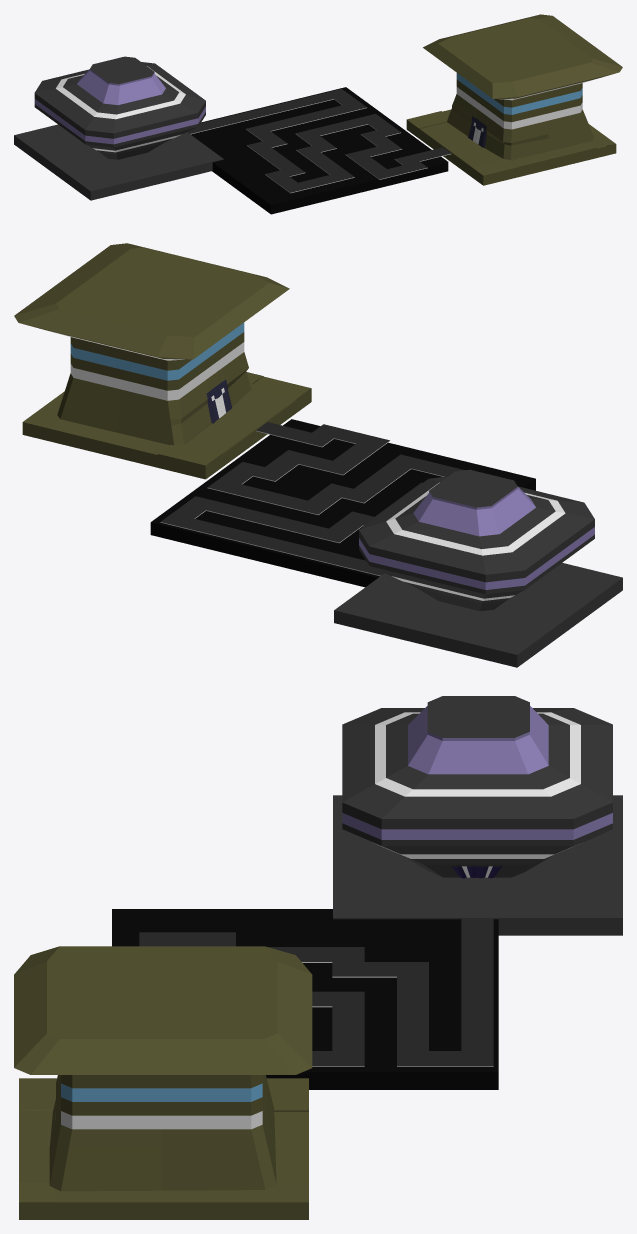
File: mapa_budoucnost.fbx
3 views of the same model, one above another, from view 1: azimuth 30°, elevation 25°; view 2: azimuth 150°, elevation 25°; view 3: azimuth 270°, elevation 25° (orthographic). The views are drawn at different scales.
Visible parts, largest first — view 1: Cube.002, Cube.001, Cube.003, Cube; view 2: Cube.002, Cube.001, Cube.003, Cube; view 3: Cube.002, Cube.001, Cube.003, Cube.
Part boxes in pixels (box(x1,y1,x2,y2)): Cube.002: box(406, 14, 622, 185); Cube.001: box(14, 56, 223, 200); Cube.003: box(190, 87, 448, 214); Cube: box(187, 89, 451, 193); Cube.002: box(14, 243, 311, 479); Cube.001: box(334, 469, 622, 667); Cube.003: box(150, 419, 535, 587); Cube: box(160, 422, 464, 576); Cube.002: box(14, 946, 312, 1219); Cube.001: box(333, 696, 622, 935); Cube.003: box(112, 909, 498, 1089); Cube: box(139, 918, 493, 1066).
Bounding box in the file's own units: 10197 × 1957 × 6301.
